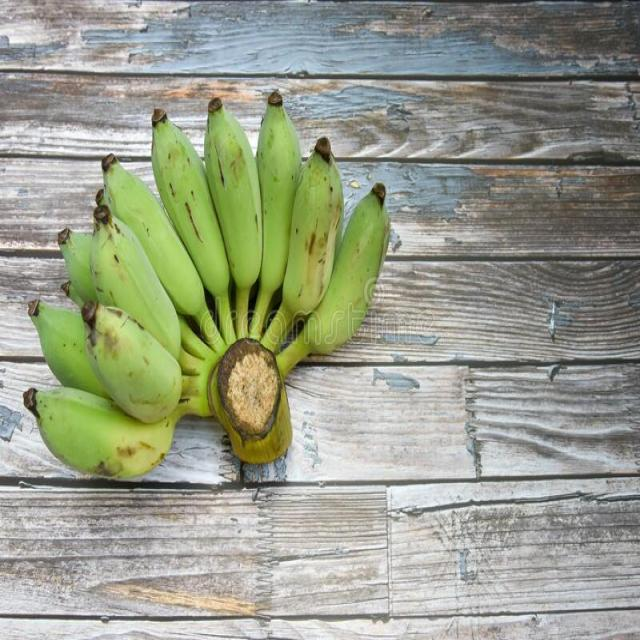Banana: (20, 82, 394, 488)
